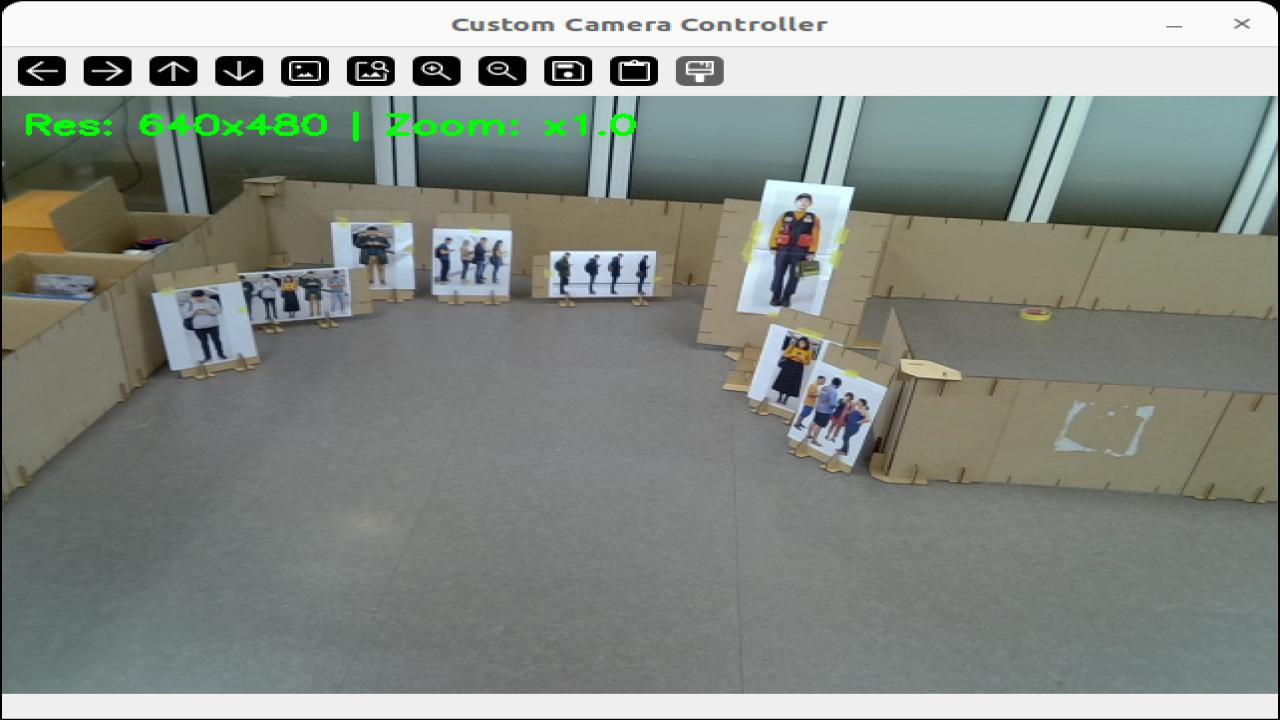Crowd: (181, 291, 227, 363), (772, 336, 811, 402), (353, 225, 389, 282), (807, 385, 837, 443), (837, 400, 867, 453), (796, 376, 821, 427), (827, 392, 851, 440), (257, 275, 277, 319), (301, 272, 321, 314), (325, 270, 345, 311), (283, 277, 299, 318), (437, 237, 451, 282), (490, 240, 504, 279), (586, 255, 598, 293), (556, 252, 566, 293), (610, 254, 620, 293), (463, 240, 473, 279), (475, 237, 482, 283), (640, 257, 646, 291)
Responder: (770, 196, 819, 304)
